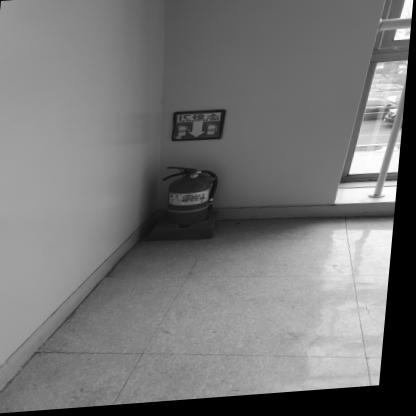FE: (151, 164, 225, 244)
